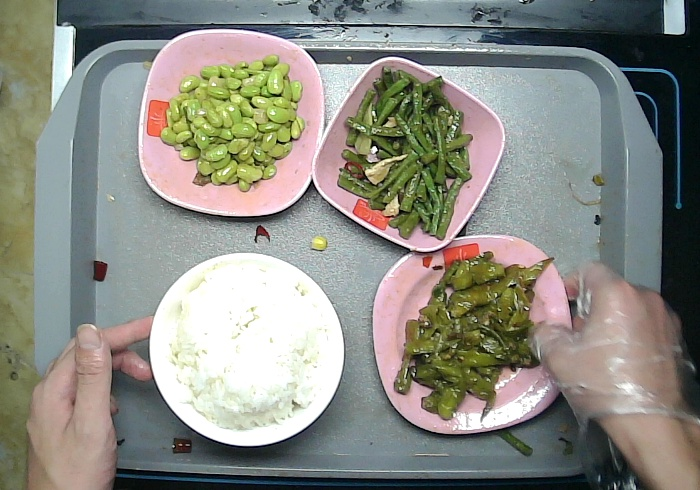SHKJ-Fan_Wan: (145, 252, 347, 448)
SHKJ-Fen_Se_Cai_Die: (134, 25, 325, 216)
SHKJ-Fen_Se_Si_Fang_Cai_Die: (370, 231, 574, 438)
SHKJ-Fen_Se_Xiao_Fang_Die: (311, 54, 508, 251)
